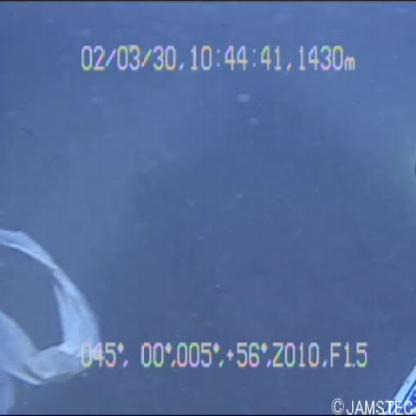Rác: (1, 222, 104, 416)
